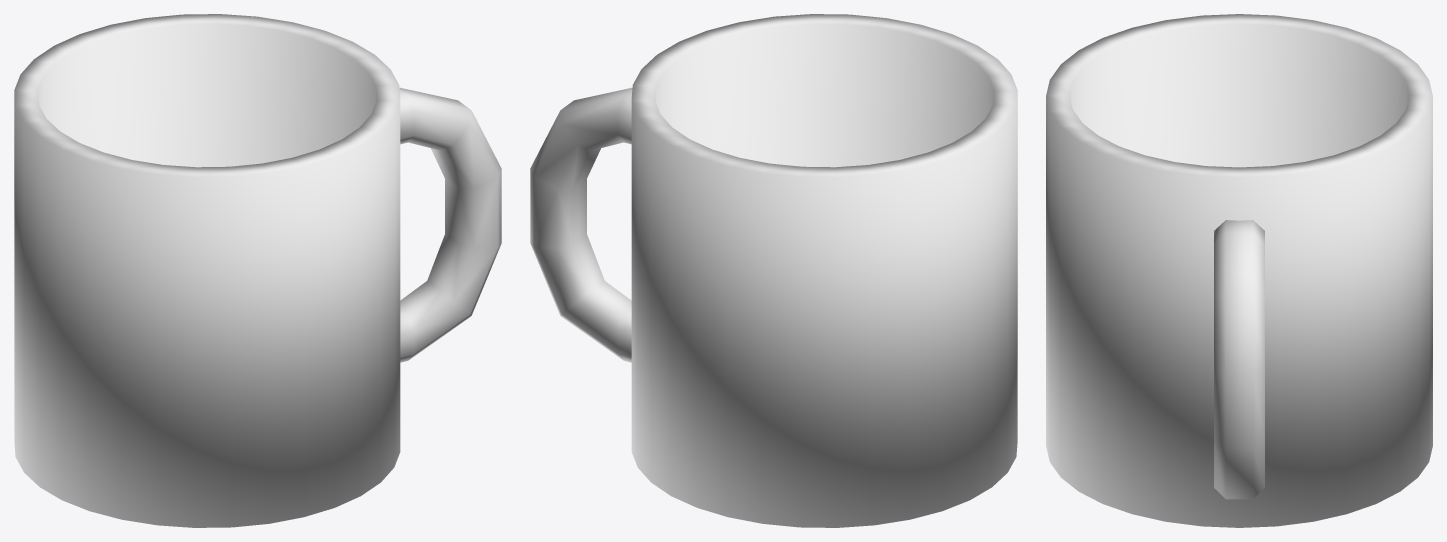
Rendered from Tasse.fbx.
The picture shows the model from 3 angles, left to right: view 1: azimuth 30°, elevation 25°; view 2: azimuth 150°, elevation 25°; view 3: azimuth 270°, elevation 25°; orthographic projection.
Parts seen in each view (by area): view 1: Cylinder; view 2: Cylinder; view 3: Cylinder.
Part boxes in pixels (x1,y1,x2,y2): Cylinder: (14,14,501,527); Cylinder: (530,14,1017,527); Cylinder: (1046,14,1432,527).
Size of the model in its own units: 34.91 by 25.71 by 25.71.
